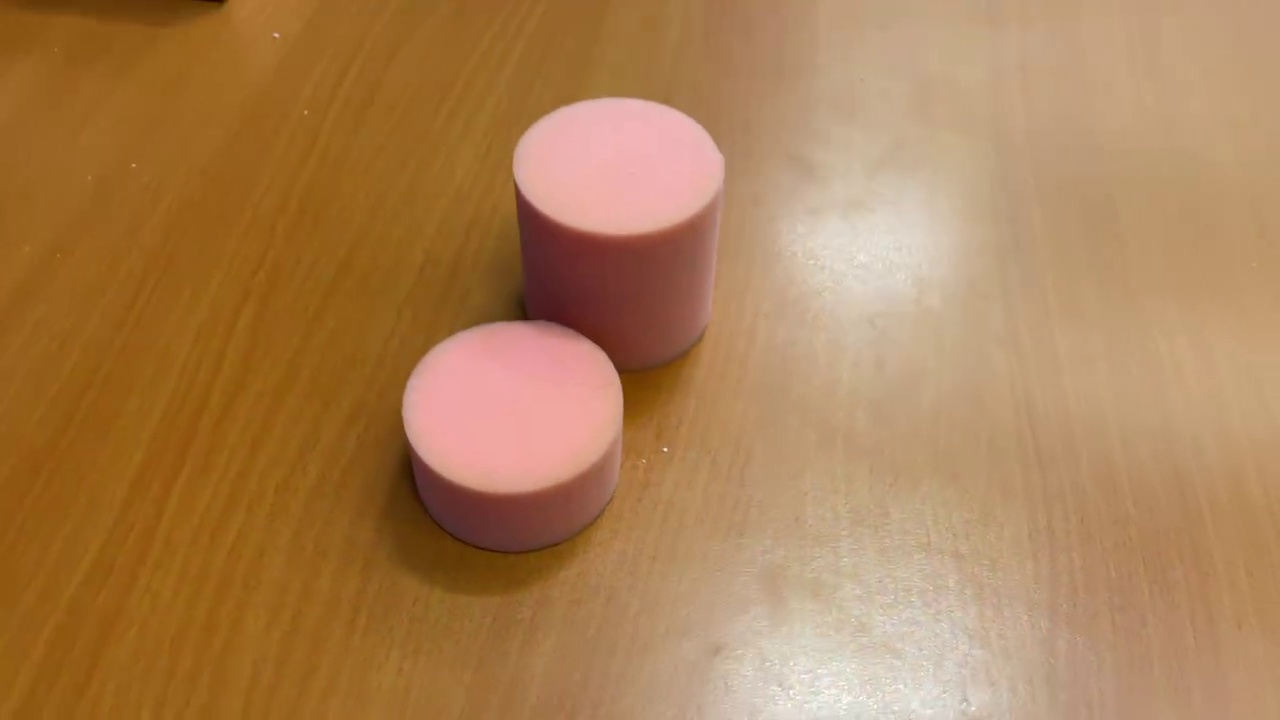Clyinder_short: (392, 309, 634, 566)
Cylinder: (508, 93, 730, 374)
